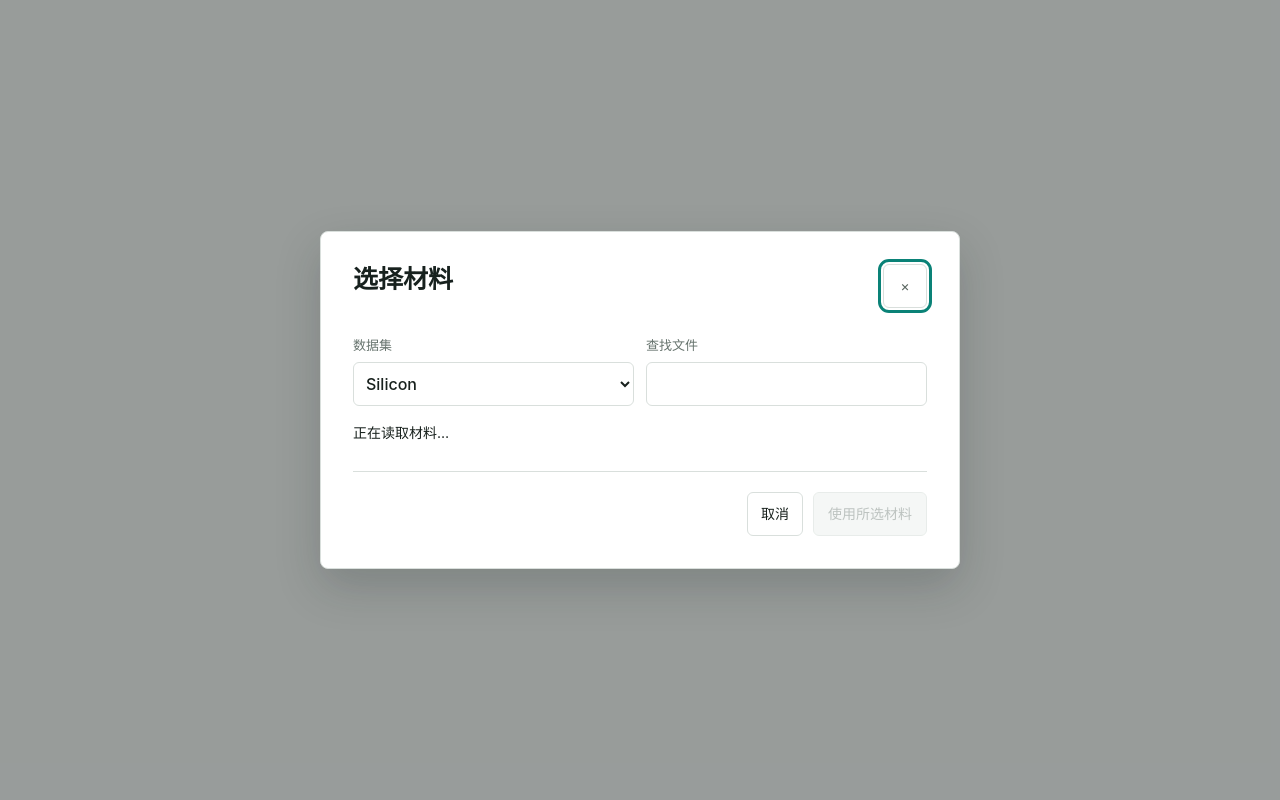
ignores a previous dataset's late catalog and exposes retry after a catalog failure
Select "Copper" in the dropdown labelled "数据集" at x=494, y=384, box [353,362,634,406]
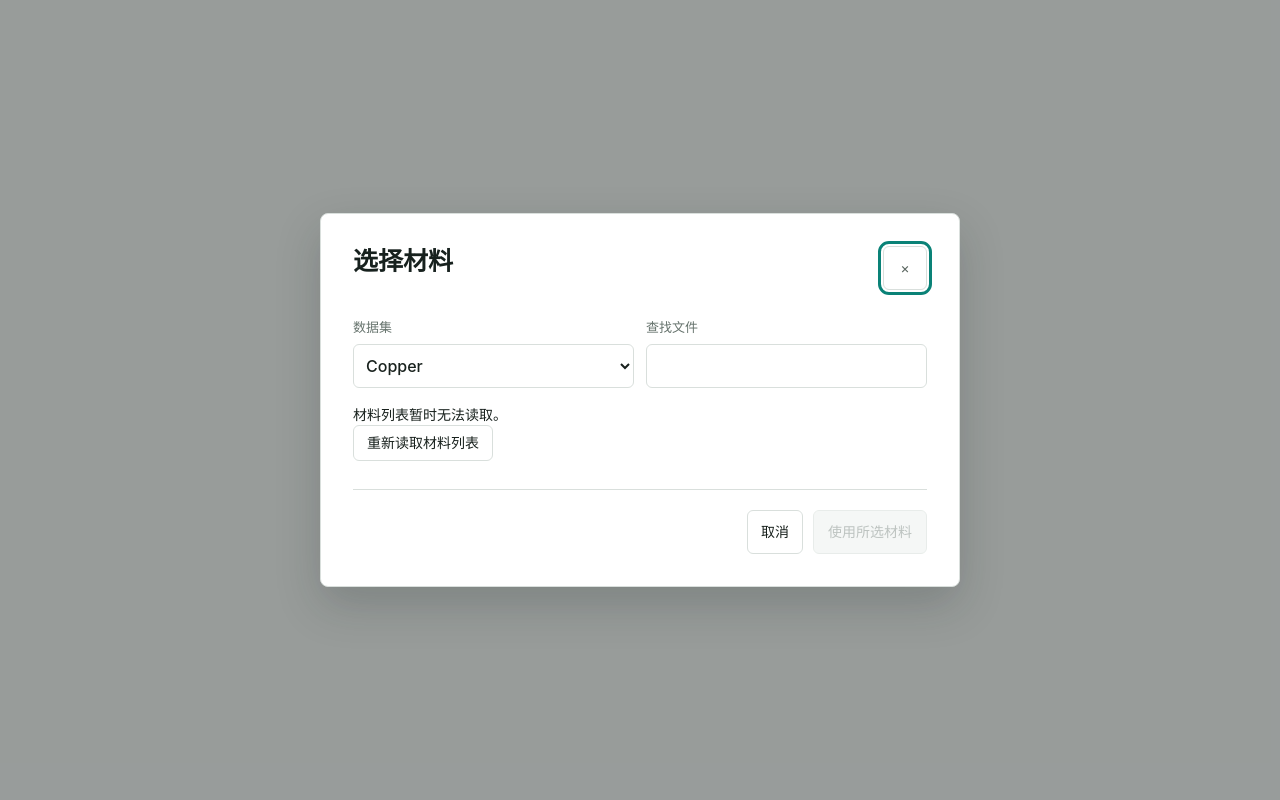
Expected: the button "重新读取材料列表" is shown
Click the button "重新读取材料列表" at x=423, y=443, box [353,425,493,461]
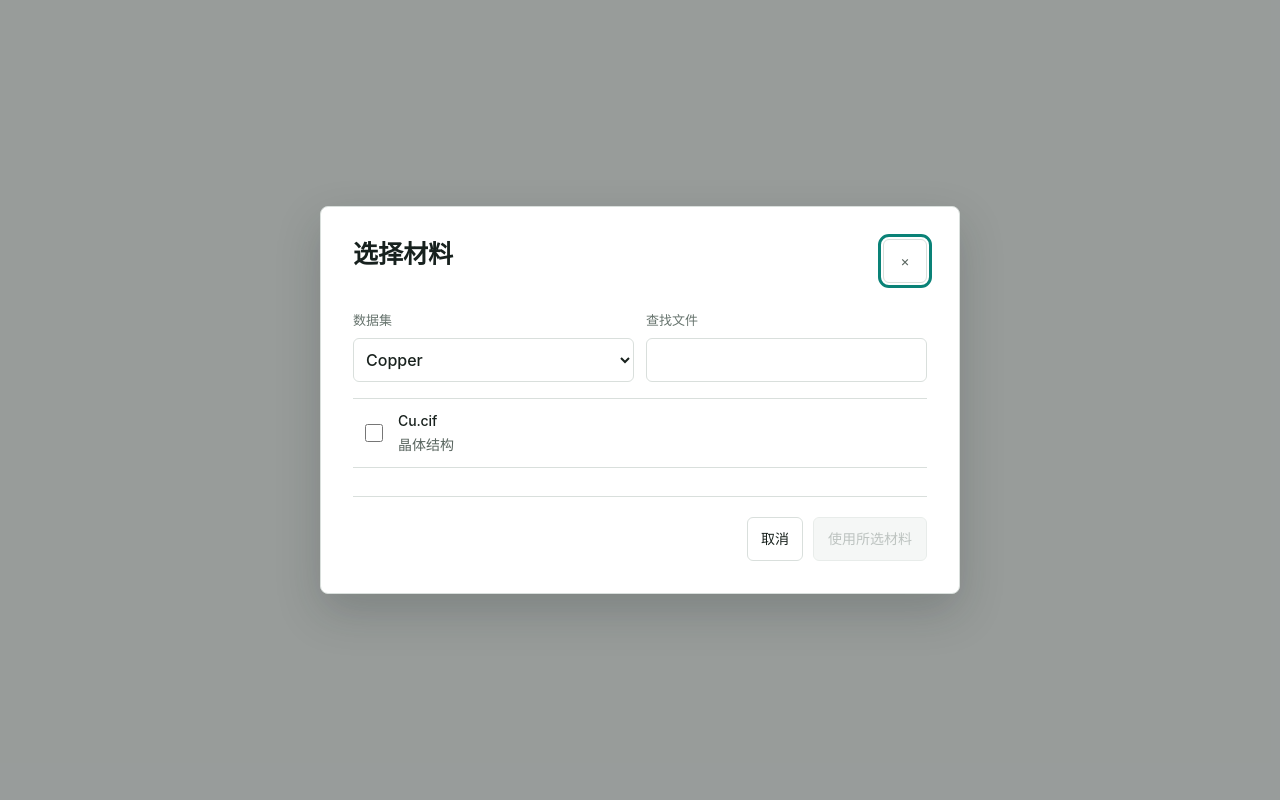
Expected: the checkbox labelled "Cu.cif 晶体结构" is shown, [365,415,383,451]
